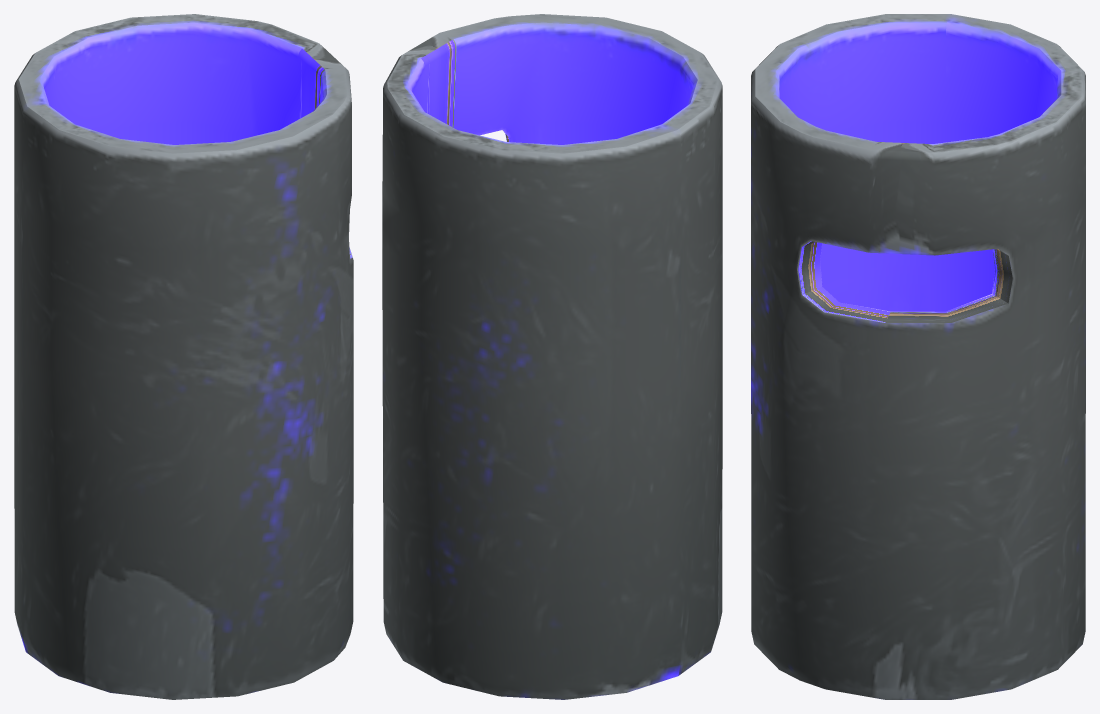
The model's file is basurero.fbx.
3 renders of one model, left to right at view 1: azimuth 30°, elevation 25°; view 2: azimuth 150°, elevation 25°; view 3: azimuth 270°, elevation 25°, orthographic.
Parts seen in each view (by area): view 1: BASURERO; view 2: BASURERO; view 3: BASURERO.
Part boxes in pixels (x1,y1,x2,y2): BASURERO: (14, 14, 353, 699); BASURERO: (382, 14, 722, 699); BASURERO: (751, 14, 1085, 699).
Size of what is drawn, in the model's own units: 27.3 by 49.08 by 27.1.
